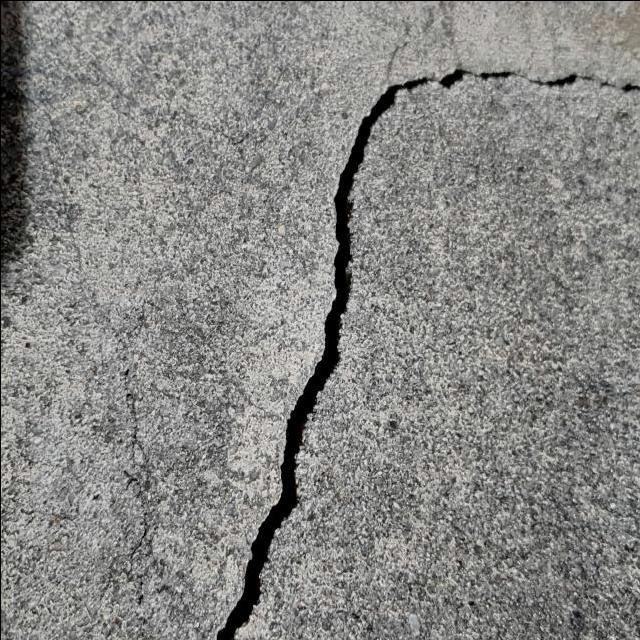SurfaceCrack: (102, 5, 634, 640)
